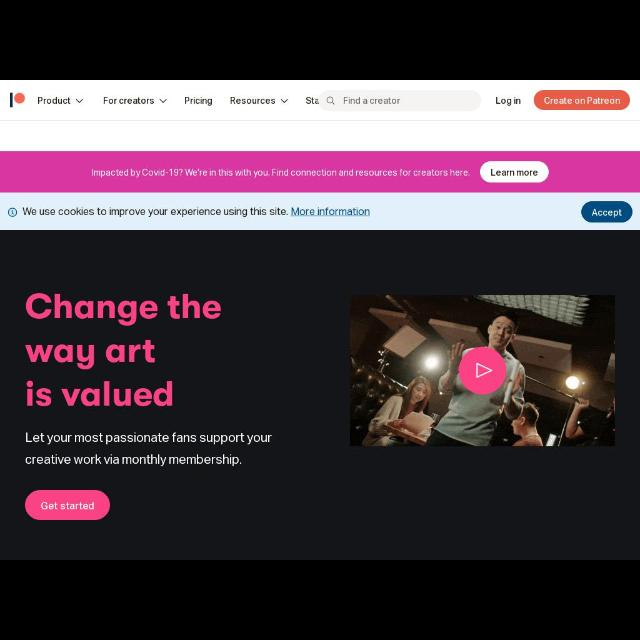button: (459, 348, 507, 394)
icon: (476, 362, 492, 378), (8, 207, 18, 217), (328, 98, 337, 106), (281, 98, 289, 104), (160, 98, 168, 104), (76, 98, 84, 104)
iframe: (1, 193, 639, 230)
image: (350, 296, 616, 446), (10, 92, 26, 108)
input: (318, 91, 482, 111)
link: (292, 208, 371, 216)
spinner: (104, 96, 168, 104), (230, 97, 290, 105), (38, 96, 84, 106)
text: (25, 292, 221, 408), (25, 434, 273, 466), (92, 168, 470, 178), (22, 207, 370, 217), (545, 97, 621, 105), (41, 502, 95, 511), (490, 168, 538, 178), (343, 96, 401, 104), (103, 96, 155, 104), (230, 97, 276, 105), (592, 208, 622, 218), (494, 97, 522, 107), (185, 96, 213, 106), (38, 97, 70, 105), (306, 97, 318, 105)
textbutton: (26, 490, 110, 520), (534, 90, 630, 110), (479, 162, 548, 182), (582, 202, 632, 222)
toolbar: (1, 80, 640, 120)
